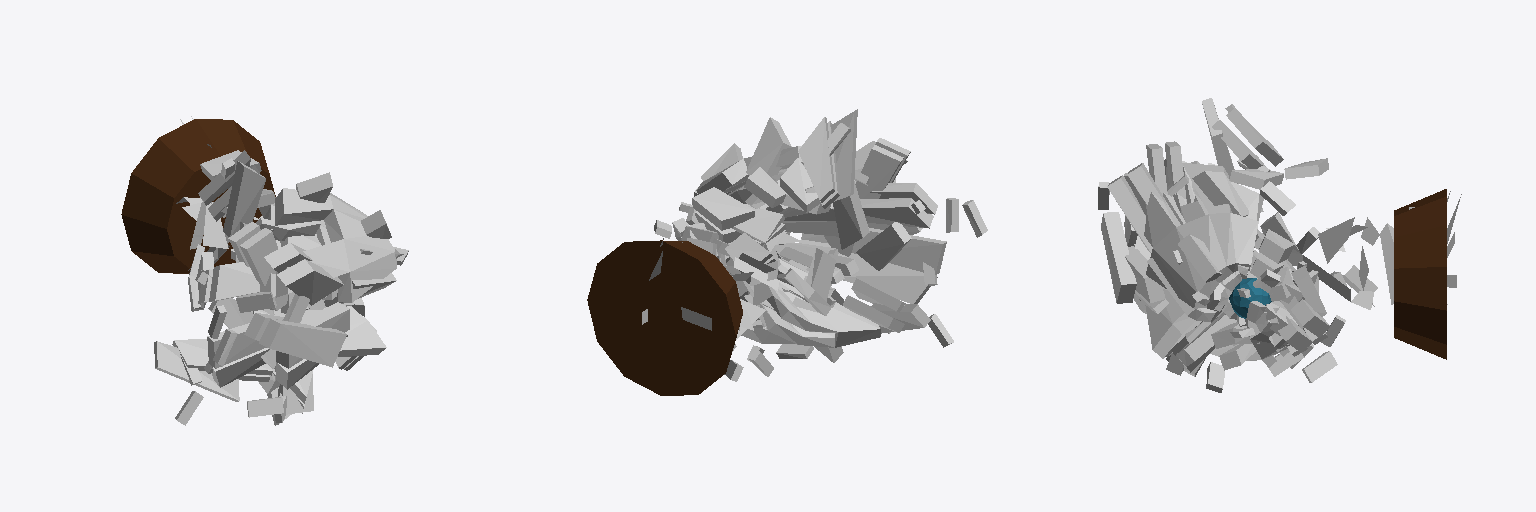
The picture shows the model from 3 angles: view 1: azimuth 30°, elevation 25°; view 2: azimuth 150°, elevation 25°; view 3: azimuth 270°, elevation 25°; orthographic projection.
Parts seen in each view (by area): view 1: Cone_Cone_cover, Cone.001_Cone.001_cover, Cylinder_Cylinder_Material.001, Plane_Plane_Material.003; view 2: Cone.001_Cone.001_cover, Cylinder_Cylinder_Material.001, Cone_Cone_cover, Plane_Plane_Material.003; view 3: Cone_Cone_cover, Cone.001_Cone.001_cover, Cylinder_Cylinder_Material.001, Plane_Plane_Material.003, Icosphere_Icosphere_ball.
Boxes of the visible parts, x1=… form: Cone_Cone_cover: x1=231, y1=172, x2=408, y2=425; Cone.001_Cone.001_cover: x1=154, y1=150, x2=404, y2=425; Cylinder_Cylinder_Material.001: x1=121, y1=119, x2=275, y2=273; Plane_Plane_Material.003: x1=176, y1=116, x2=257, y2=270; Cone.001_Cone.001_cover: x1=712, y1=109, x2=987, y2=376; Cylinder_Cylinder_Material.001: x1=587, y1=240, x2=742, y2=395; Cone_Cone_cover: x1=654, y1=117, x2=933, y2=381; Plane_Plane_Material.003: x1=642, y1=208, x2=801, y2=339; Cone_Cone_cover: x1=1101, y1=161, x2=1346, y2=392; Cone.001_Cone.001_cover: x1=1098, y1=98, x2=1345, y2=368; Cylinder_Cylinder_Material.001: x1=1394, y1=189, x2=1446, y2=359; Plane_Plane_Material.003: x1=1247, y1=191, x2=1461, y2=309; Icosphere_Icosphere_ball: x1=1229, y1=278, x2=1271, y2=318.
Size of the model in its own units: 1.99 by 1.9 by 2.36.
4 materials, 1 textured.